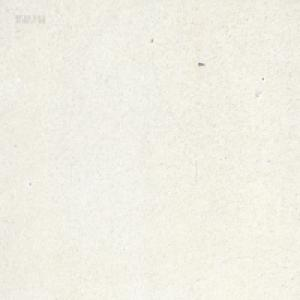Nail: (198, 61, 204, 67)
